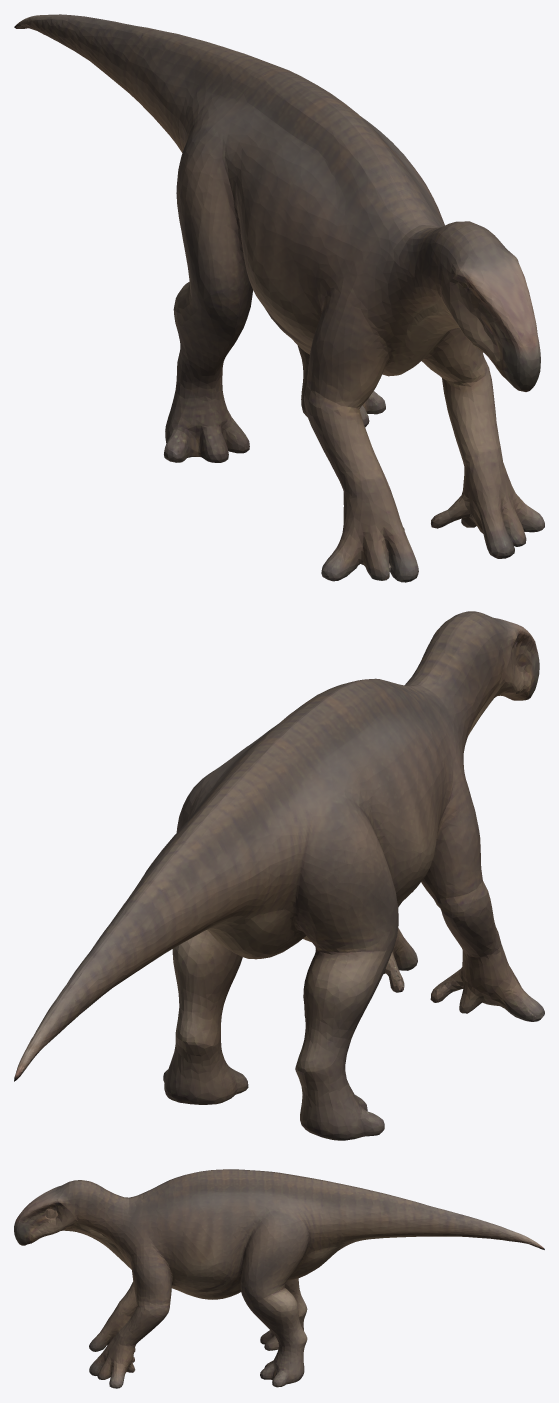
File: model-fb9afa28d5cb.glb
3 views of the same model, one above another, from view 1: azimuth 30°, elevation 25°; view 2: azimuth 150°, elevation 25°; view 3: azimuth 270°, elevation 25° (orthographic). The views are drawn at different scales.
Parts seen in each view (by area): view 1: world; view 2: world; view 3: world.
Boxes of the visible parts, bbox=[...] form: world: bbox=[14, 14, 544, 582]; world: bbox=[14, 611, 544, 1140]; world: bbox=[14, 1169, 544, 1388].
Bounding box in the file's own units: 0.2455 × 0.3996 × 0.9982.
Materials: 1 (1 with a texture image).
